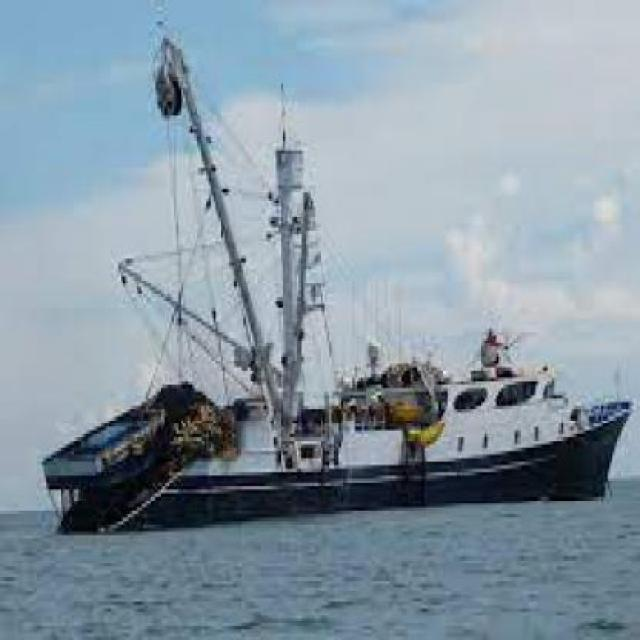fish-b: (108, 4, 637, 523)
